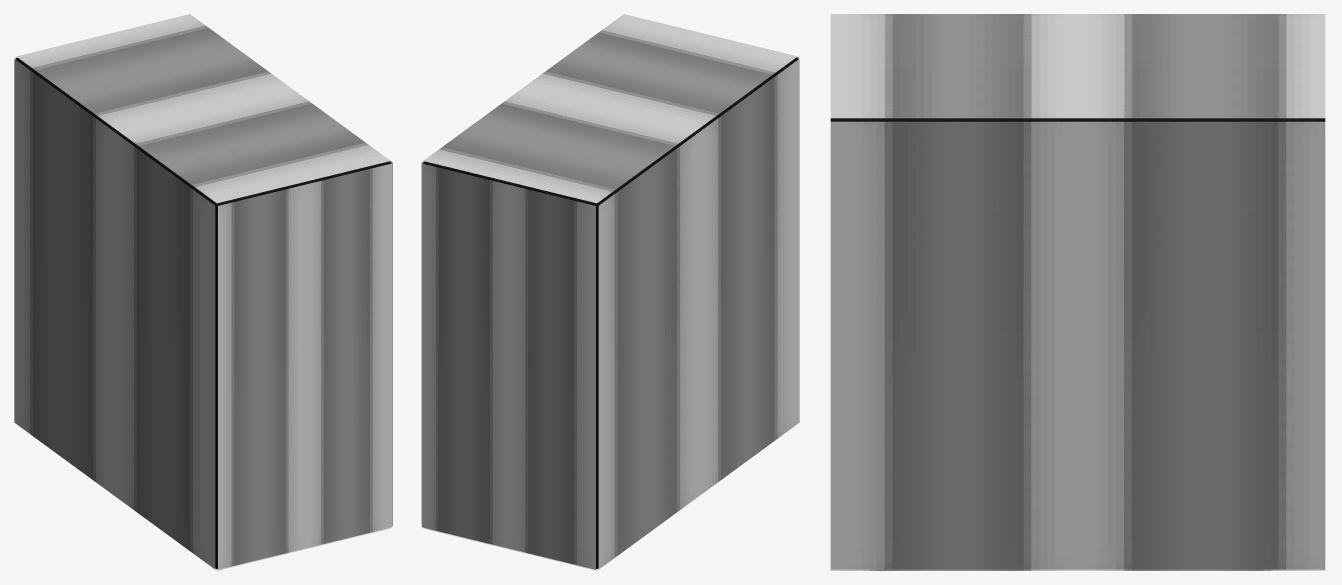
File: router.obj
3 renders of one model, left to right at view 1: azimuth 30°, elevation 25°; view 2: azimuth 150°, elevation 25°; view 3: azimuth 270°, elevation 25°, orthographic. The views are drawn at different scales.
Parts seen in each view (by area): view 1: Router2, Router5, Router3, Router1; view 2: Router2, Router6, Router3, Router1; view 3: Router7, Router3, Router1, Router4.
Part boxes in pixels (box(x1,y1,x2,y2)): Router2: box(14, 59, 215, 569); Router5: box(218, 163, 391, 569); Router3: box(16, 14, 390, 203); Router1: box(16, 58, 390, 568); Router2: box(598, 59, 799, 569); Router6: box(422, 163, 595, 569); Router3: box(423, 14, 797, 203); Router1: box(423, 58, 797, 568); Router7: box(830, 121, 1325, 569); Router3: box(830, 14, 1325, 118); Router1: box(830, 118, 1325, 121); Router4: box(830, 569, 1325, 570).
Bounding box in the file's own units: 2.04 × 4.04 × 4.04.
Materials: 2 (1 with a texture image).
